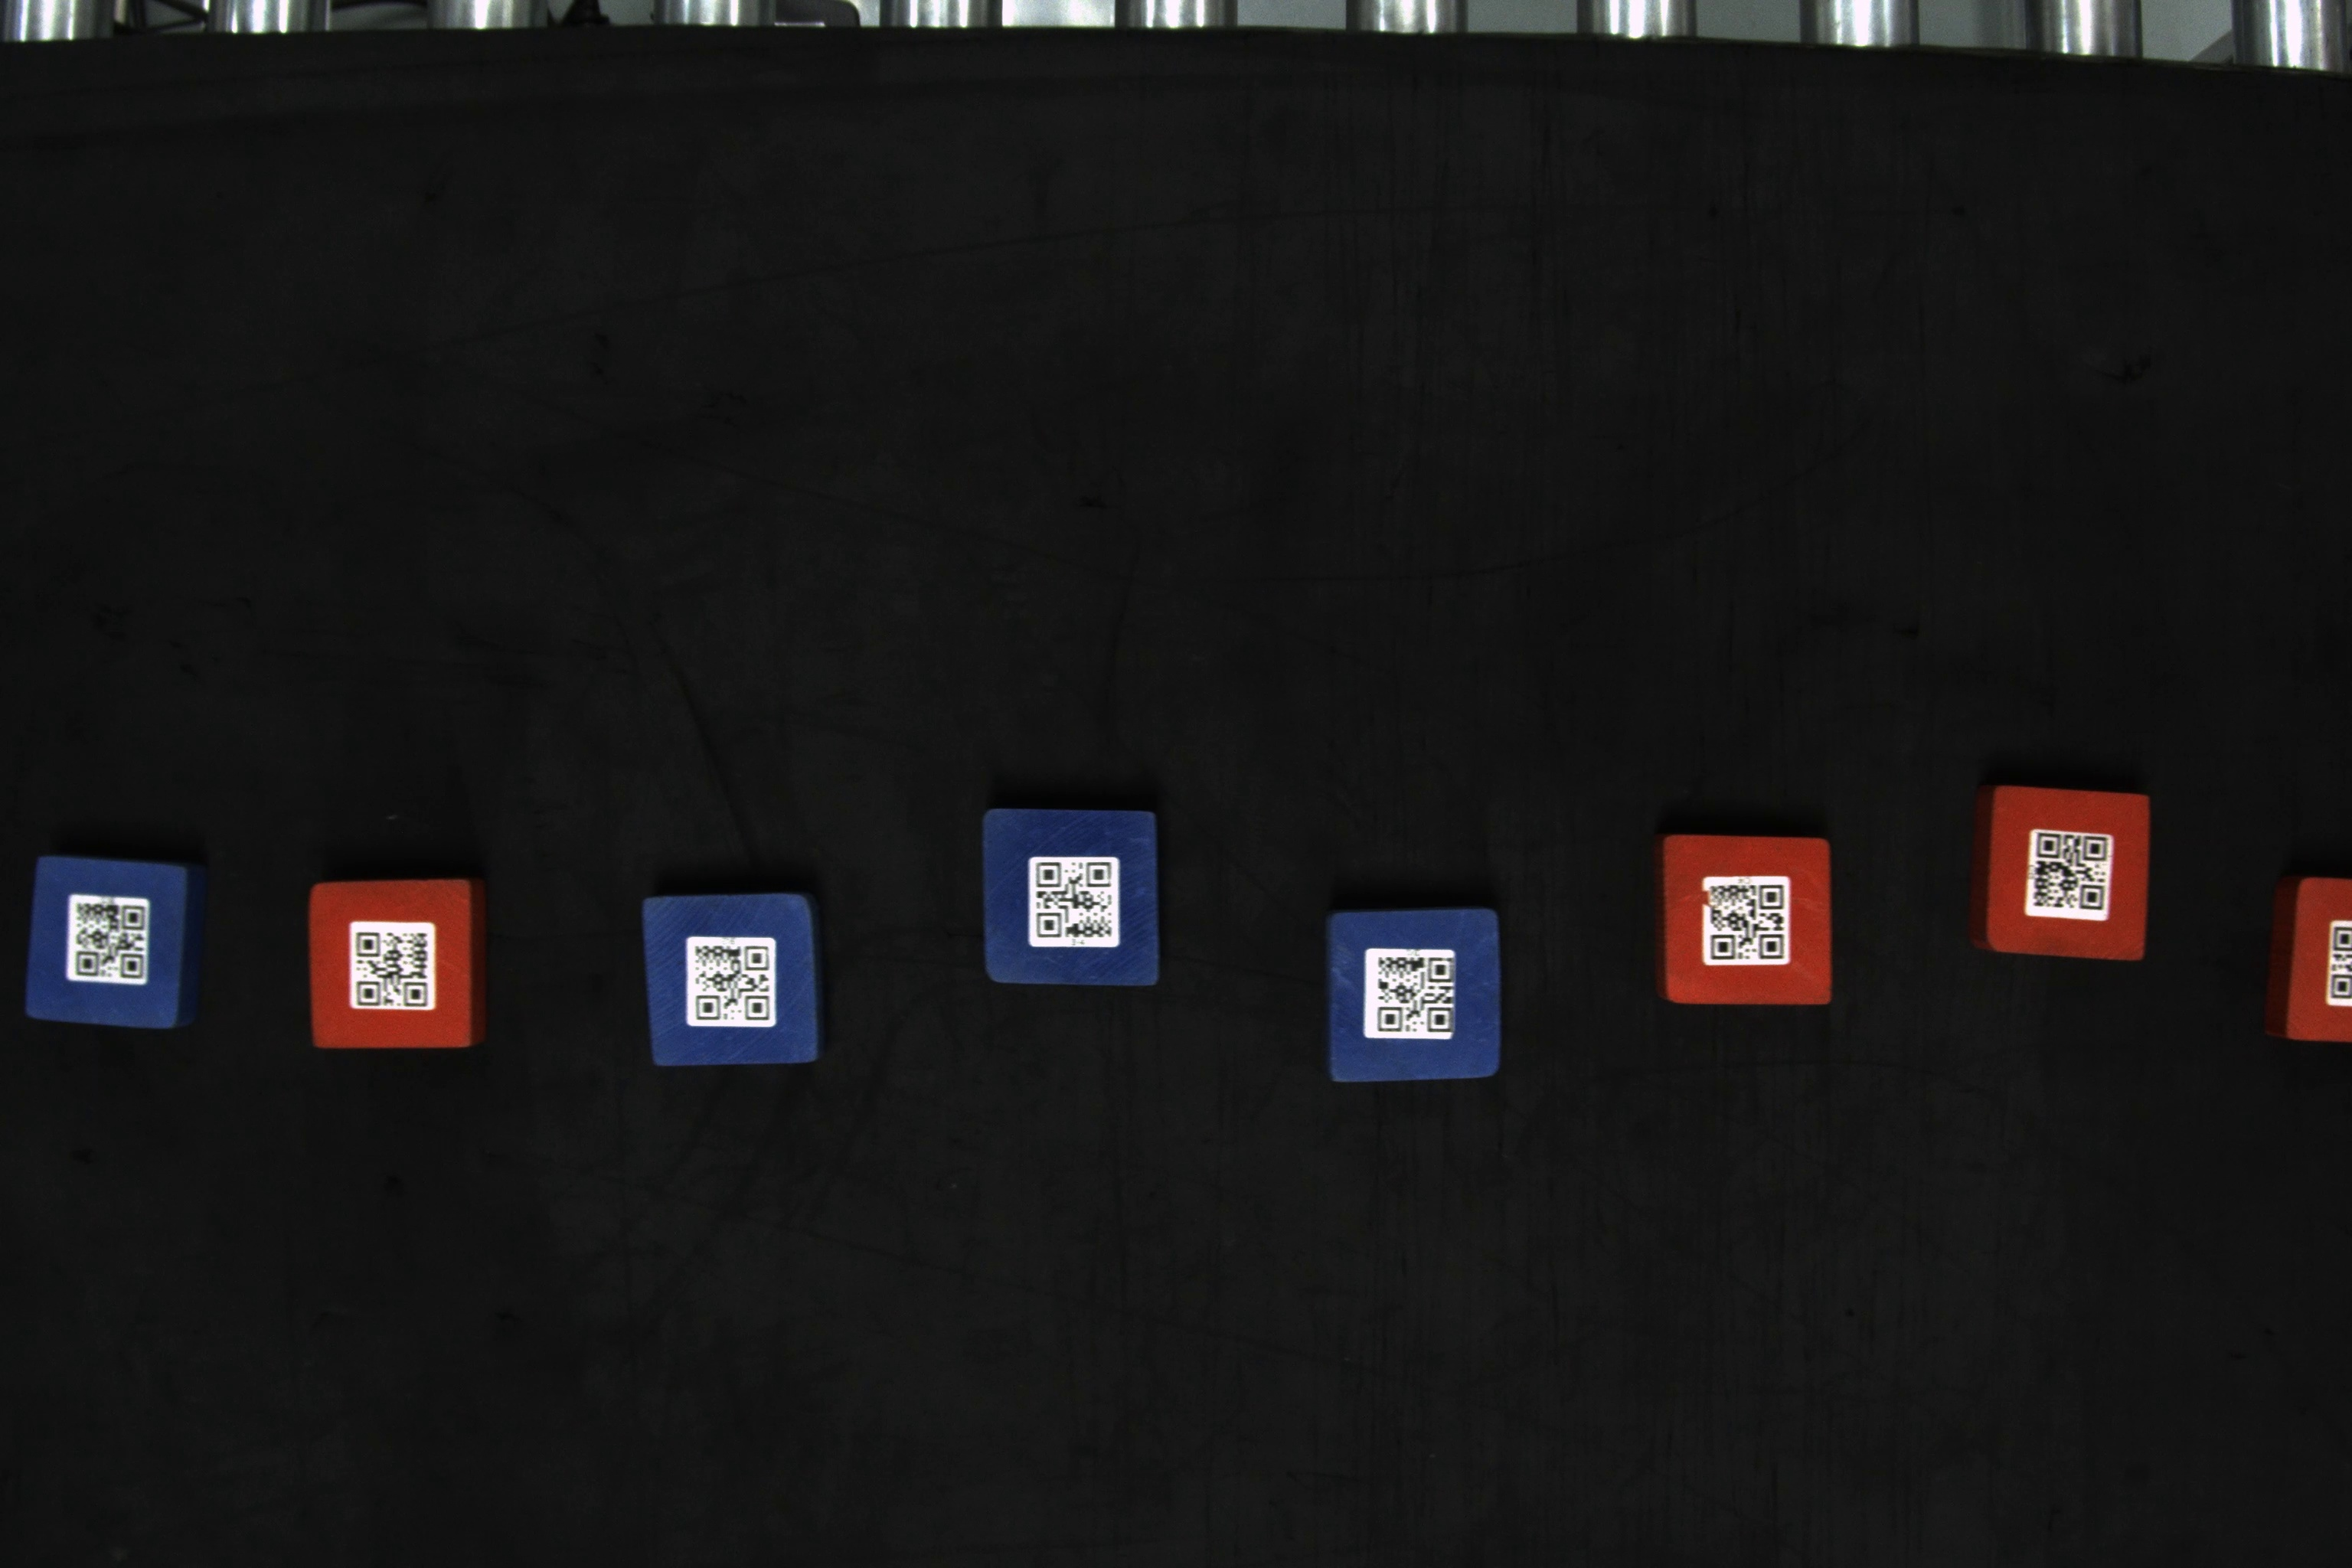wood: (975, 796, 1169, 990), (1963, 775, 2158, 966), (14, 847, 212, 1034), (632, 891, 829, 1073), (1648, 829, 1843, 1008), (1316, 906, 1507, 1087), (304, 875, 490, 1057), (2270, 870, 2347, 1048)
